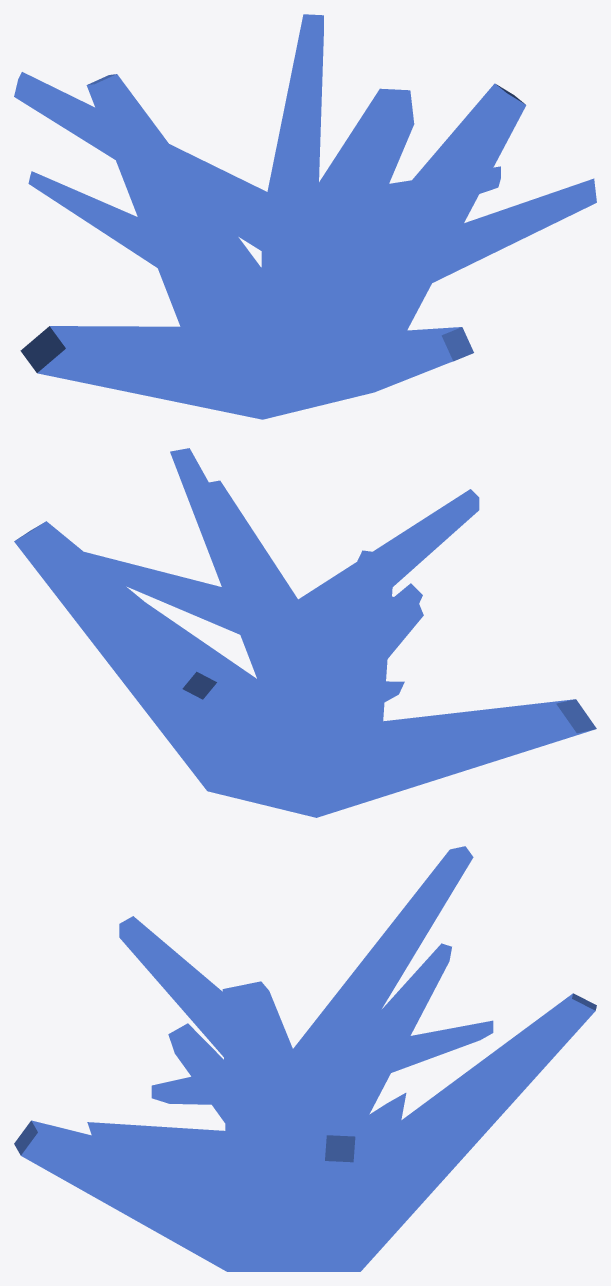
File: CoralBlue.glb
3 renders of one model, top to bottom at view 1: azimuth 30°, elevation 25°; view 2: azimuth 150°, elevation 25°; view 3: azimuth 270°, elevation 25°, orthographic. The views are drawn at different scales.
Visible parts, largest first — view 1: Cube; view 2: Cube; view 3: Cube.
Part boxes in pixels (box(x1,y1,x2,y2)): Cube: box(14, 14, 596, 419); Cube: box(14, 448, 596, 817); Cube: box(14, 846, 596, 1271).
Bounding box in the file's own units: 3.29 × 1.73 × 2.99.
